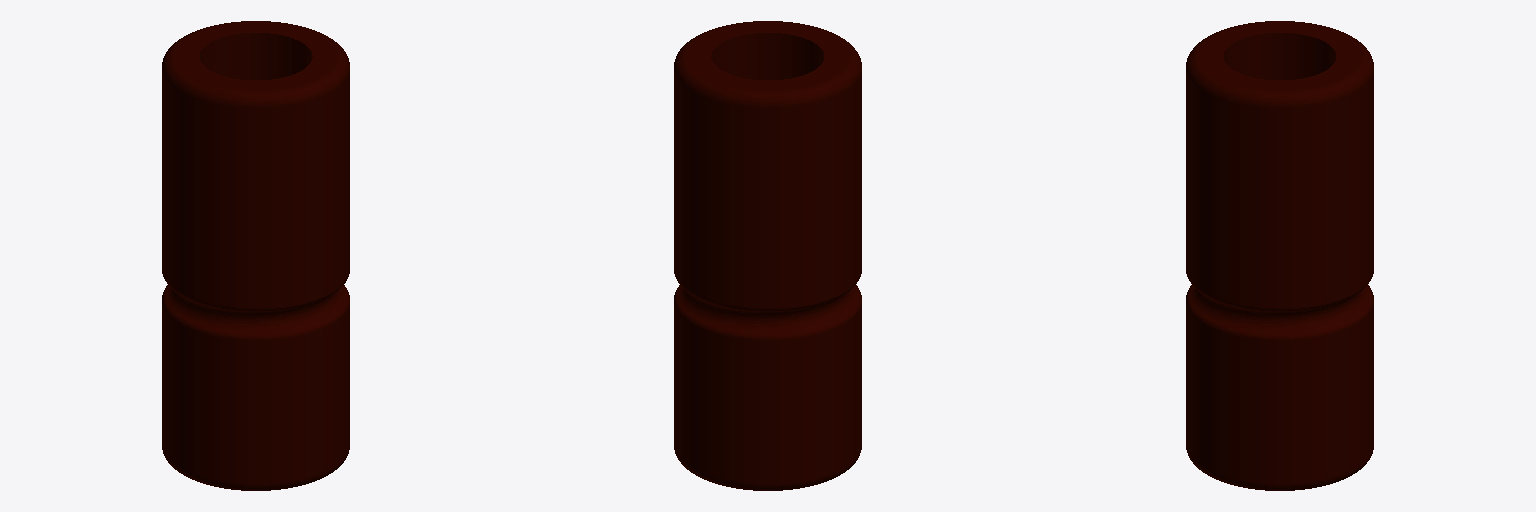
Rendered from grand-rond-trou-marron.obj.
3 renders of one model, left to right at view 1: azimuth 30°, elevation 25°; view 2: azimuth 150°, elevation 25°; view 3: azimuth 270°, elevation 25°, orthographic.
Visible parts, largest first — view 1: quarto-pieces.003; view 2: quarto-pieces.003; view 3: quarto-pieces.003.
Boxes of the visible parts, x1,y1,x2,y2 form: quarto-pieces.003: [162, 21, 349, 490]; quarto-pieces.003: [674, 21, 861, 490]; quarto-pieces.003: [1186, 21, 1373, 490].
Size of the model in its own units: 29.98 by 70 by 29.98.